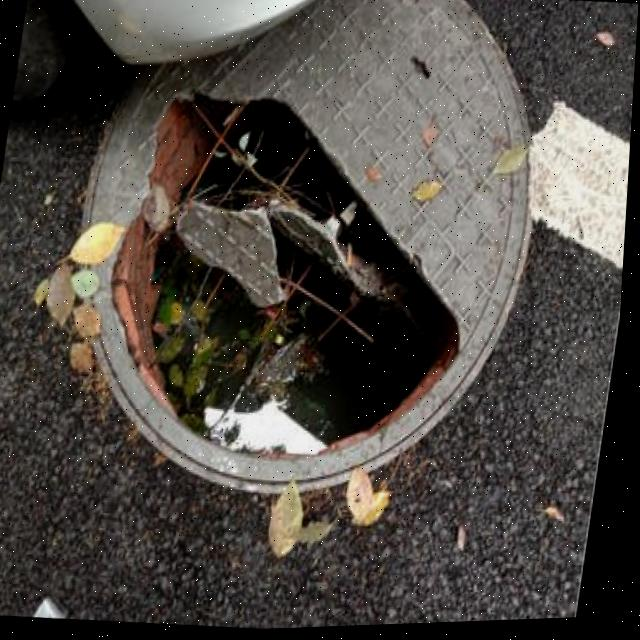manhole: (53, 0, 548, 507)
